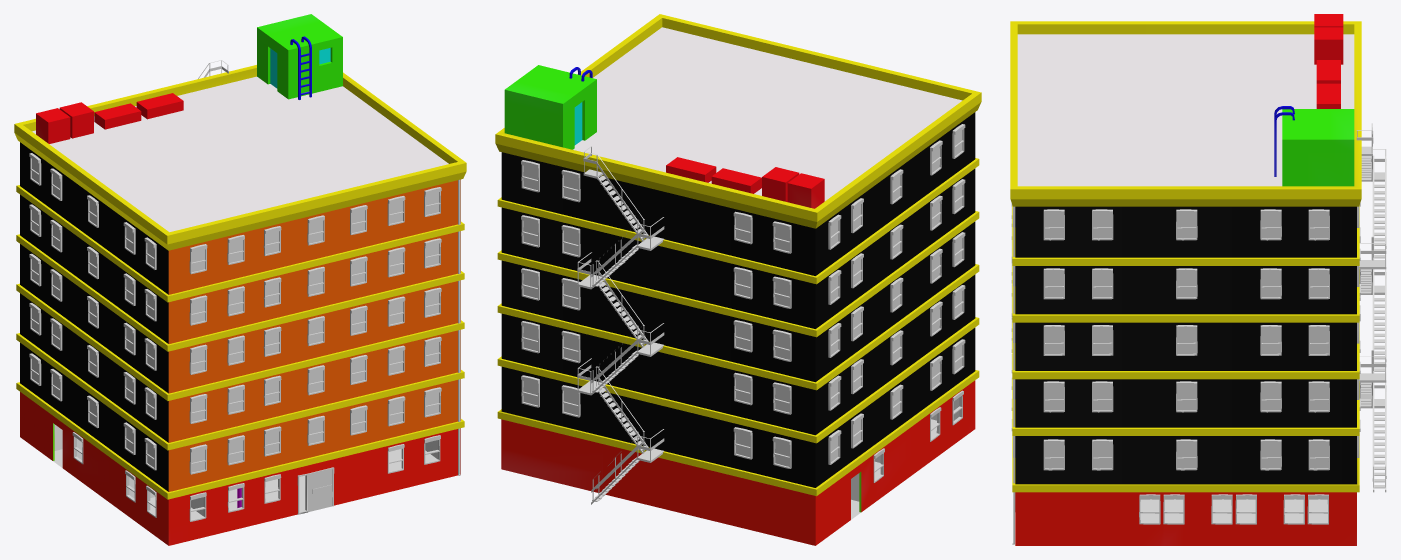
File: Batiment1.fbx
The picture shows the model from 3 angles, left to right: view 1: azimuth 30°, elevation 25°; view 2: azimuth 150°, elevation 25°; view 3: azimuth 270°, elevation 25°; orthographic projection. The views are drawn at different scales.
Visible parts, largest first — view 1: structure_top, structure, Window_top, Window_sky, Window, ground, Metal, Door; view 2: structure_top, structure, Window_top, Window_sky, Metal, Window; view 3: structure_top, structure, Window_sky, Window_top, Metal, ground, Window.
Part boxes in pixels (x1,y1,x2,y2): structure_top: [14, 14, 466, 499]; structure: [20, 392, 460, 545]; Window_top: [29, 153, 441, 474]; Window_sky: [32, 159, 439, 472]; Window: [72, 432, 440, 521]; ground: [53, 449, 436, 518]; Metal: [198, 60, 460, 475]; Door: [308, 469, 332, 511]; structure_top: [495, 14, 981, 496]; structure: [501, 380, 975, 545]; Window_top: [521, 124, 965, 468]; Window_sky: [523, 130, 962, 466]; Metal: [577, 146, 664, 504]; Window: [873, 390, 963, 482]; structure_top: [1010, 14, 1361, 492]; structure: [1015, 492, 1356, 545]; Window_sky: [1045, 215, 1328, 468]; Window_top: [1011, 202, 1360, 470]; Metal: [1012, 123, 1386, 544]; ground: [1140, 499, 1327, 521]; Window: [1015, 492, 1328, 524].
Bounding box in the file's own units: 1650 × 1892 × 1563.
